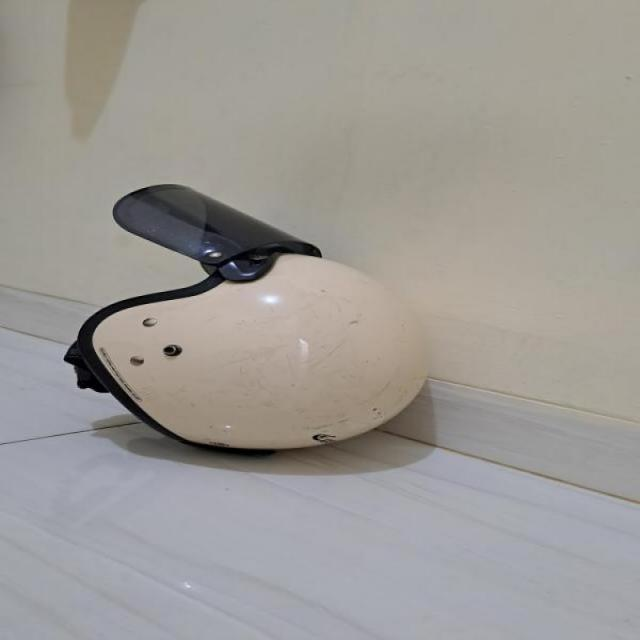Helmet: (60, 176, 436, 487)
